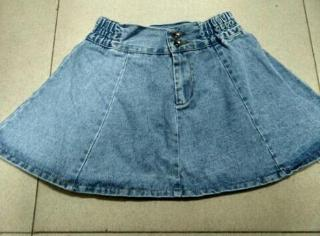skirt: (1, 11, 318, 198)
